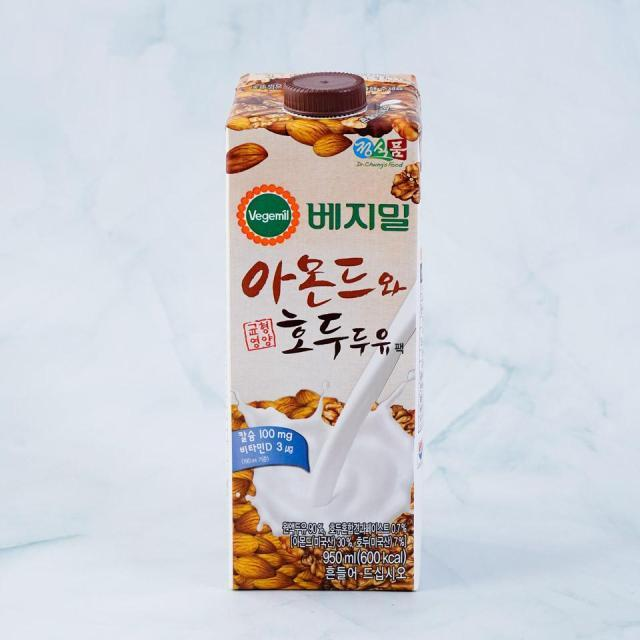Tetra: (212, 54, 430, 606)
